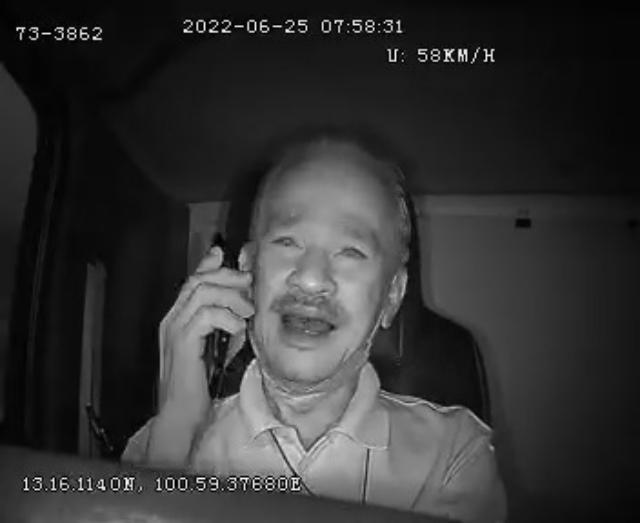PhoneUse: (198, 229, 238, 403)
SafeDriving: (329, 231, 374, 271), (264, 220, 308, 257)
